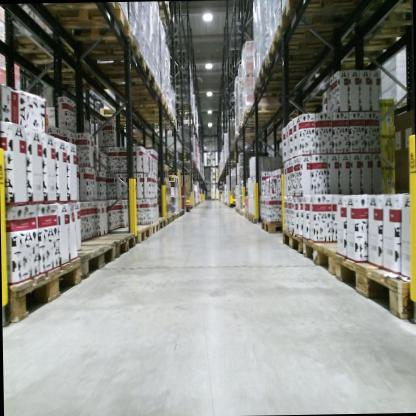pallet: (334, 247, 413, 329), (5, 254, 82, 328), (42, 4, 133, 45), (264, 22, 348, 64), (274, 0, 364, 32), (12, 29, 81, 67), (80, 30, 141, 66), (95, 56, 155, 92), (301, 231, 346, 278), (254, 54, 320, 83), (72, 236, 116, 276), (114, 77, 164, 106), (88, 230, 136, 260), (250, 73, 309, 97), (118, 90, 170, 115), (35, 62, 89, 86), (106, 221, 151, 243), (241, 99, 286, 120), (280, 224, 304, 257), (99, 106, 136, 127), (133, 106, 174, 124), (136, 113, 179, 129), (259, 220, 290, 235), (157, 3, 173, 22), (172, 99, 192, 112), (148, 218, 160, 237), (166, 172, 179, 184), (248, 212, 262, 223), (157, 216, 166, 231), (164, 216, 172, 228), (169, 212, 176, 222), (174, 209, 180, 219), (245, 209, 248, 221), (241, 209, 245, 218), (178, 209, 182, 217), (181, 209, 185, 215)
